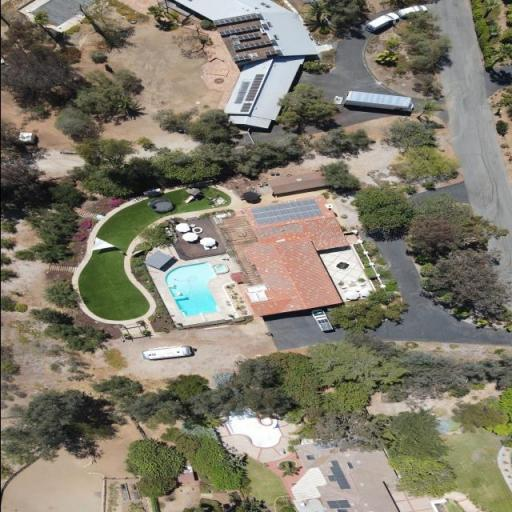solar-panel: (248, 198, 322, 226), (326, 460, 350, 489), (212, 13, 262, 25), (218, 23, 268, 35), (244, 74, 264, 101), (231, 39, 276, 50), (325, 500, 350, 509), (236, 33, 260, 40), (239, 103, 252, 112), (232, 55, 250, 61), (263, 49, 281, 55)
